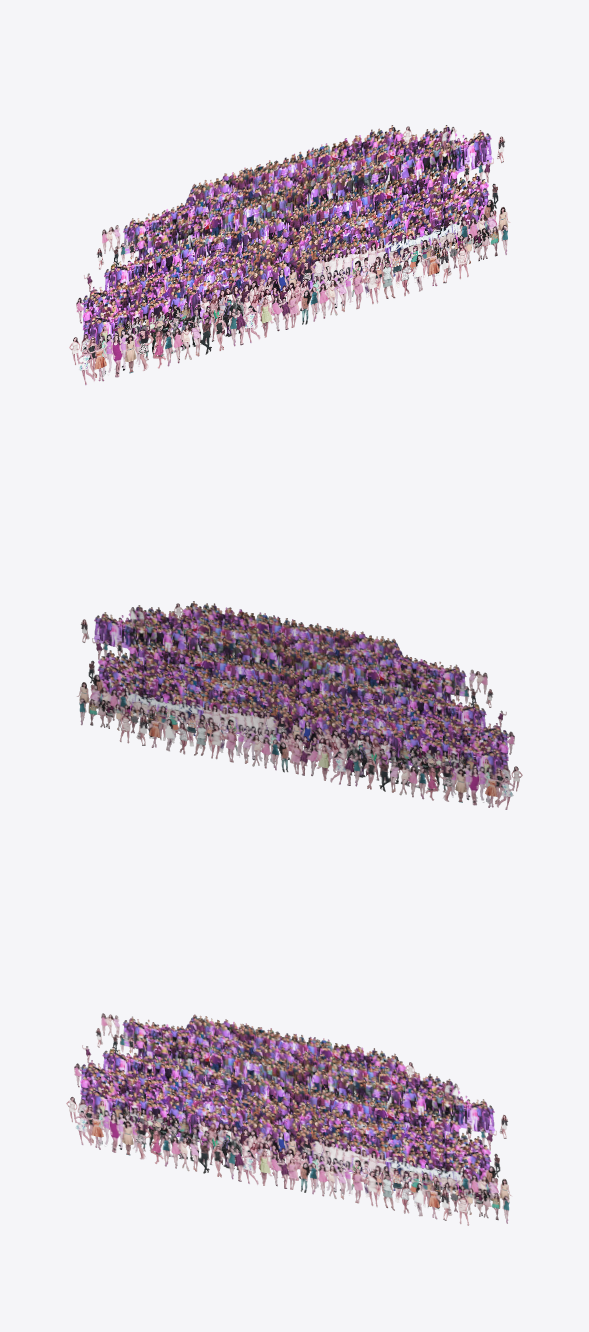
File: Personas.obj
The picture shows the model from 3 angles, top to bottom: view 1: azimuth 30°, elevation 25°; view 2: azimuth 150°, elevation 25°; view 3: azimuth 330°, elevation 25°; orthographic projection. The views are drawn at different scales.
Parts seen in each view (by area): view 1: mm; view 2: mm; view 3: mm.
Part boxes in pixels (x1,y1,x2,y2): mm: (69, 125, 510, 385); mm: (76, 601, 522, 809); mm: (66, 1013, 512, 1225).
Size of the model in its own units: 66.3 by 33.57 by 6.79.
Materials: 1 (1 with a texture image).
